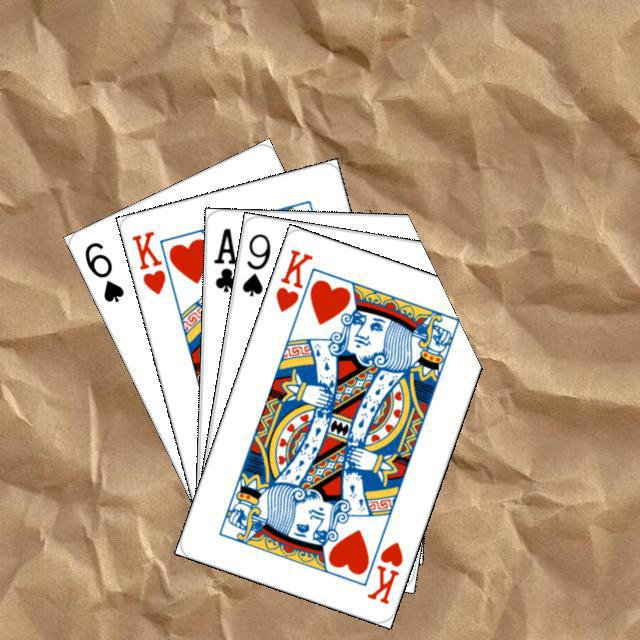6s: (79, 237, 126, 304)
9s: (237, 228, 273, 298)
Ac: (209, 223, 240, 294)
Kh: (270, 244, 320, 325), (127, 226, 178, 299), (362, 536, 405, 606)
